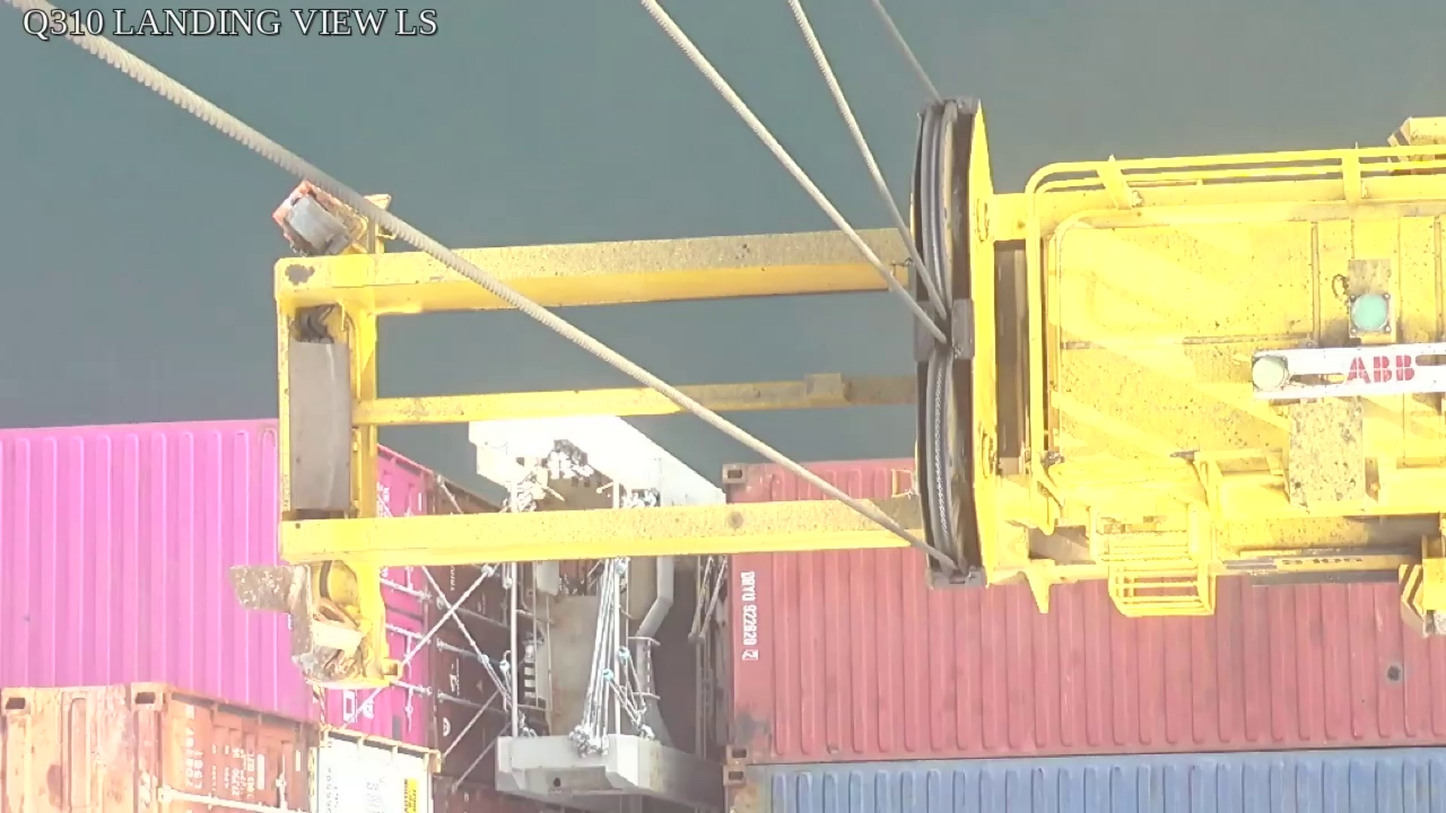aa: (908, 98, 1012, 595)
